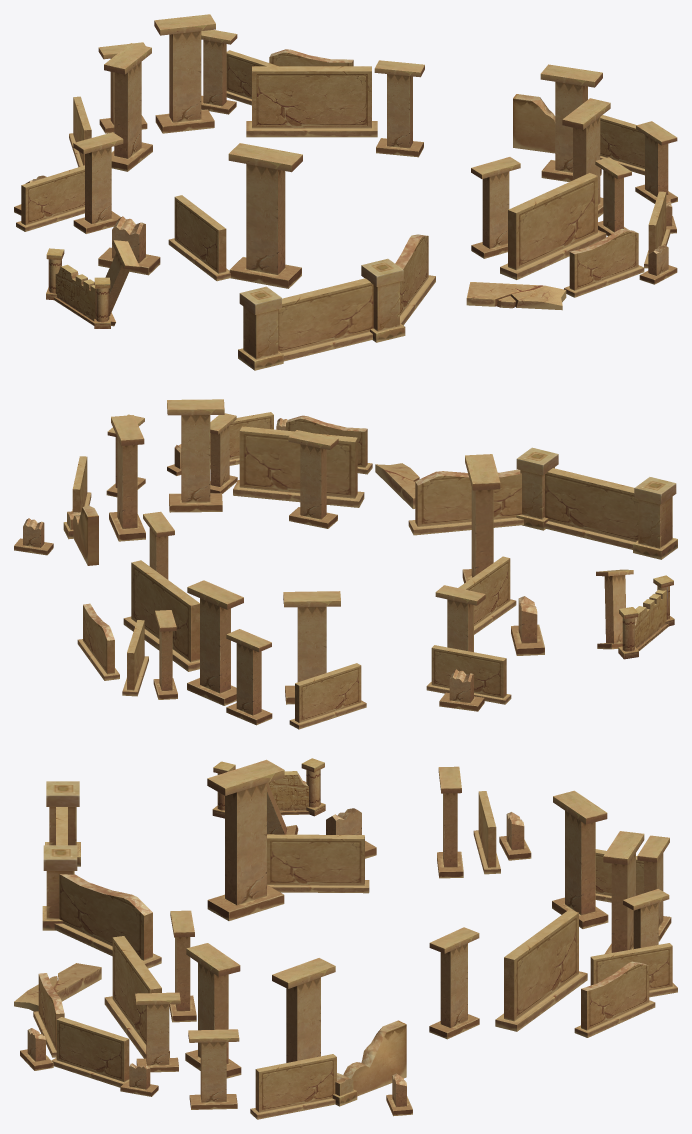
The model's file is qiangmian_09.fbx.
3 views of the same model, one above another, from view 1: azimuth 30°, elevation 25°; view 2: azimuth 150°, elevation 25°; view 3: azimuth 270°, elevation 25° (orthographic). The views are drawn at different scales.
Visible parts, largest first — view 1: qiangmian_09; view 2: qiangmian_09; view 3: qiangmian_09.
Boxes of the visible parts, <box> form: qiangmian_09: <box>14,14,677,370</box>; qiangmian_09: <box>14,399,677,729</box>; qiangmian_09: <box>14,758,677,1119</box>.
Bounding box in the file's own units: 5713 × 1290 × 5126.
1 material, 1 textured.
